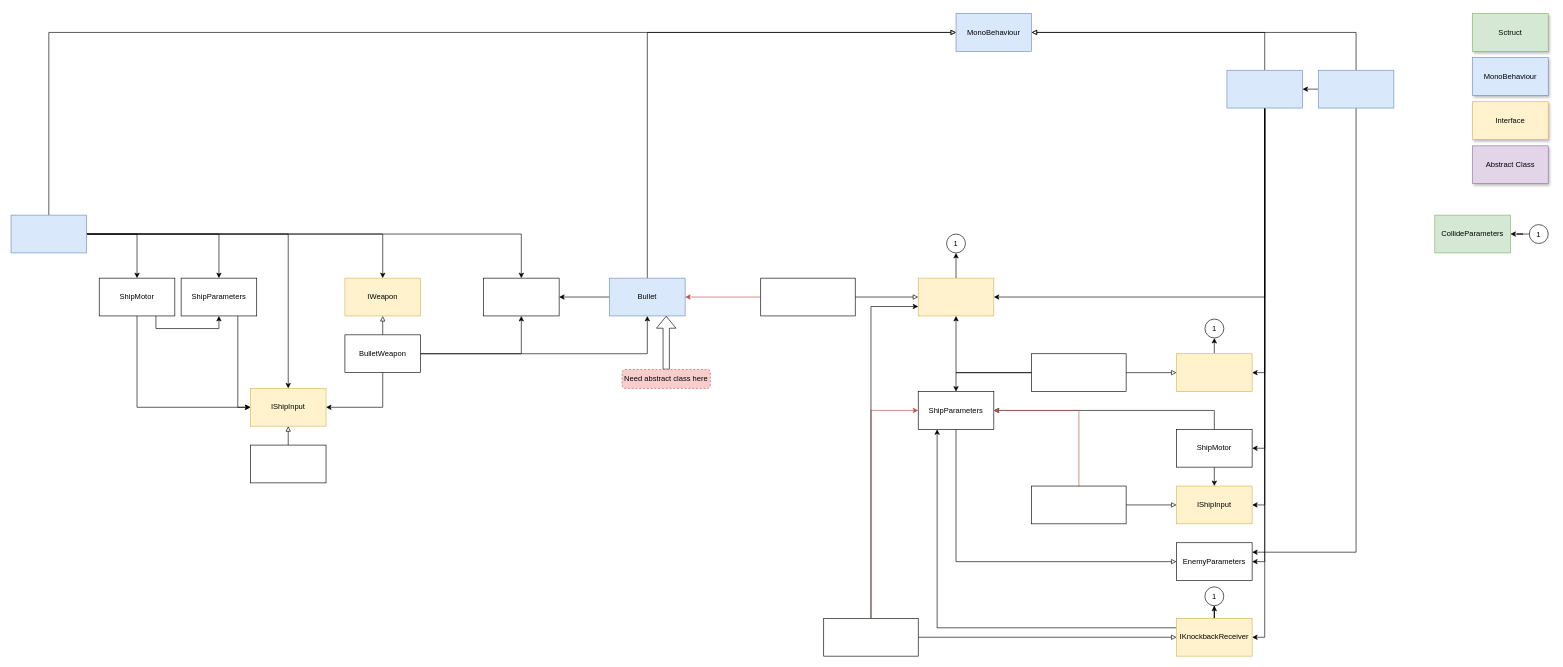
Some shapes in this 1563 by 667 pixel diagram are drawn without their labels. The shapes that lost their labels are listed below. From the top down, each one's centre as x and y in pixels, then its label:
(x=1264, y=89): Enemy
(x=1356, y=89): EnemyConstruct
(x=48, y=234): Ship
(x=521, y=297): WeaponParameters
(x=807, y=297): SimplePhisycsModule
(x=956, y=297): IPhisycsModule
(x=1078, y=372): SimpleDamageReceiver
(x=1214, y=372): IDamageReceiver
(x=288, y=463): PlayerInput
(x=1078, y=504): SimpleEnemyBehaviour
(x=870, y=637): SimpleKnockbackReceiver
